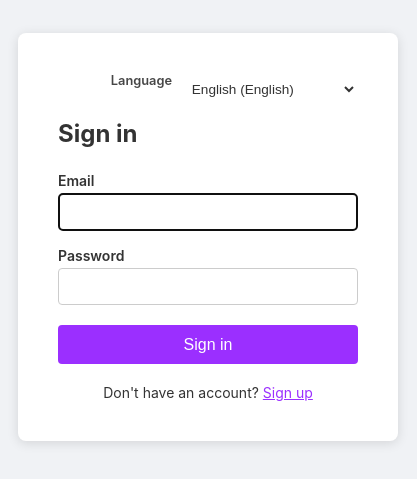
Scenario: LoginPage › shows validation message when backend returns detail array
Type "test@example.com" into the field at coordinates (208, 212), box [58,193,358,231]
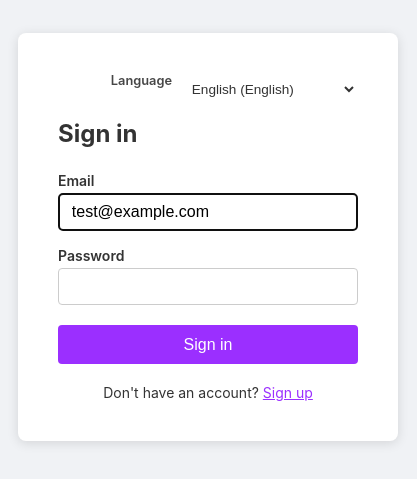
Type "password" into the password field at coordinates (208, 286), box [58,268,358,305]
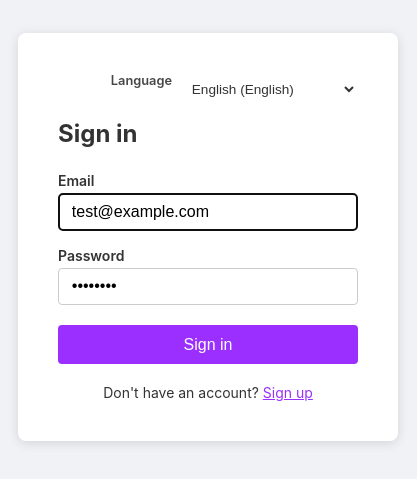
Click the button "Sign in" at coordinates (208, 345), box [58,325,358,364]
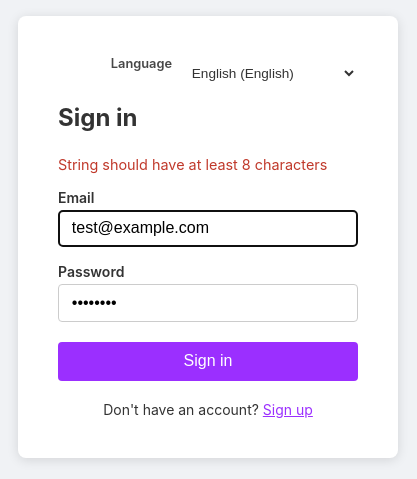
Now the text "String should have at least 8 characters" is shown, box [58,156,358,173]
